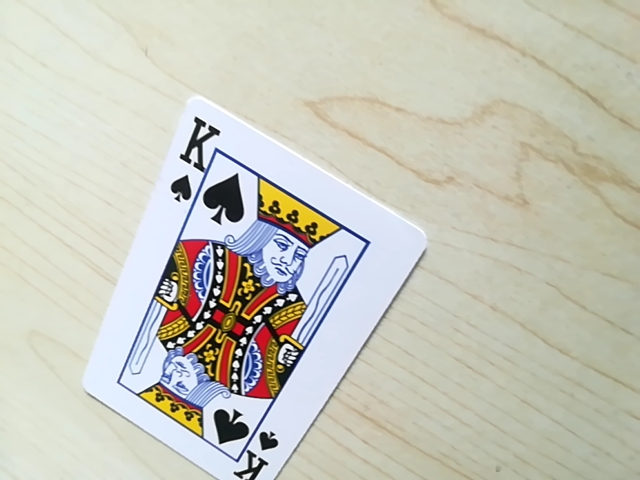ht k: (165, 107, 217, 220), (221, 419, 282, 479)
